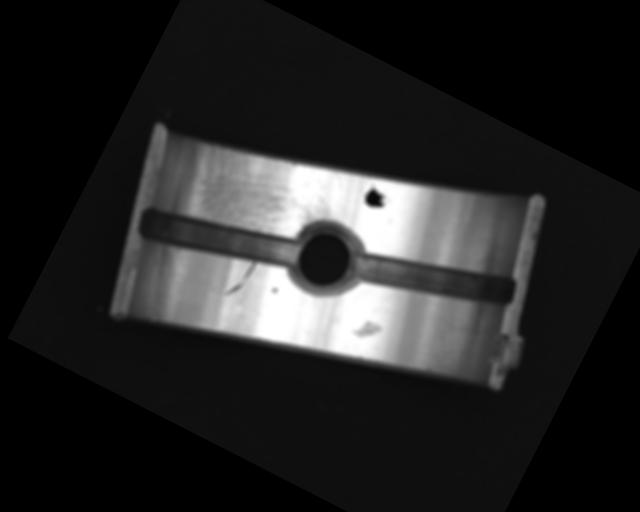blot: (359, 182, 394, 214)
bruise: (352, 314, 383, 344), (270, 286, 279, 295)
gap: (131, 172, 304, 305), (348, 212, 519, 345)
hole: (278, 211, 373, 307)
nick: (224, 256, 258, 303)
scratch: (164, 110, 355, 275)
